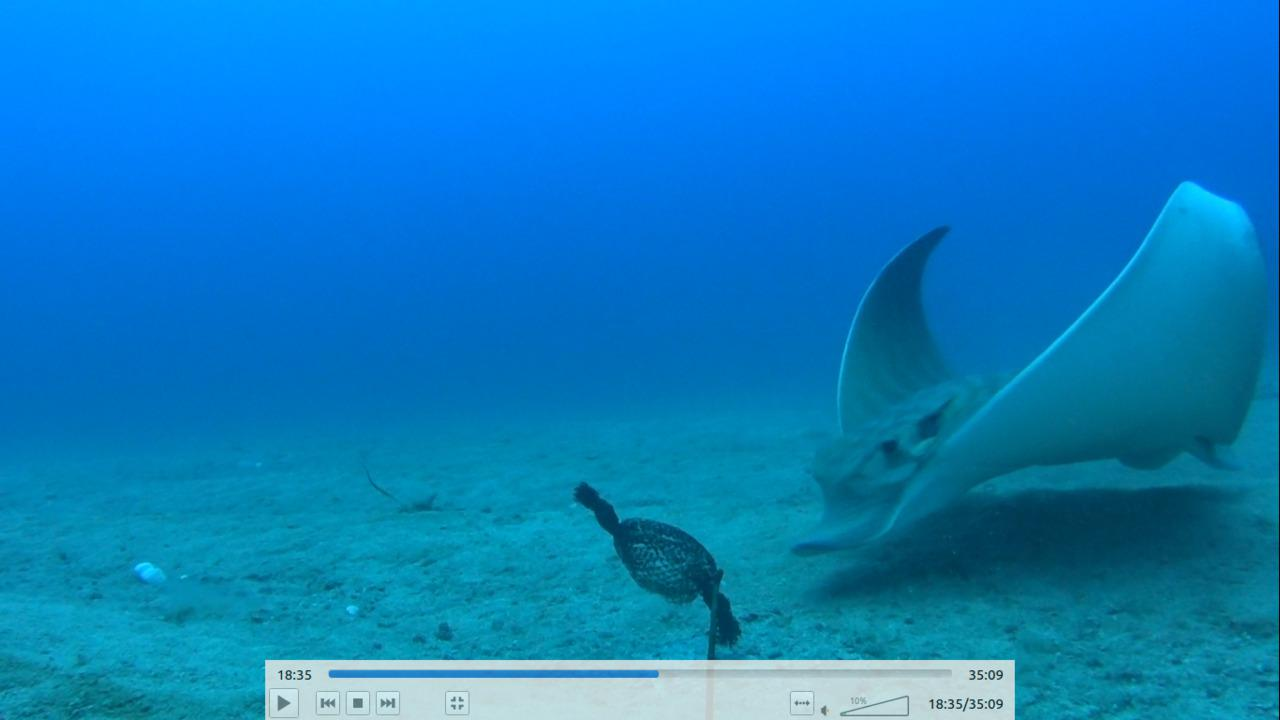myliobatis: (775, 170, 1279, 558)
